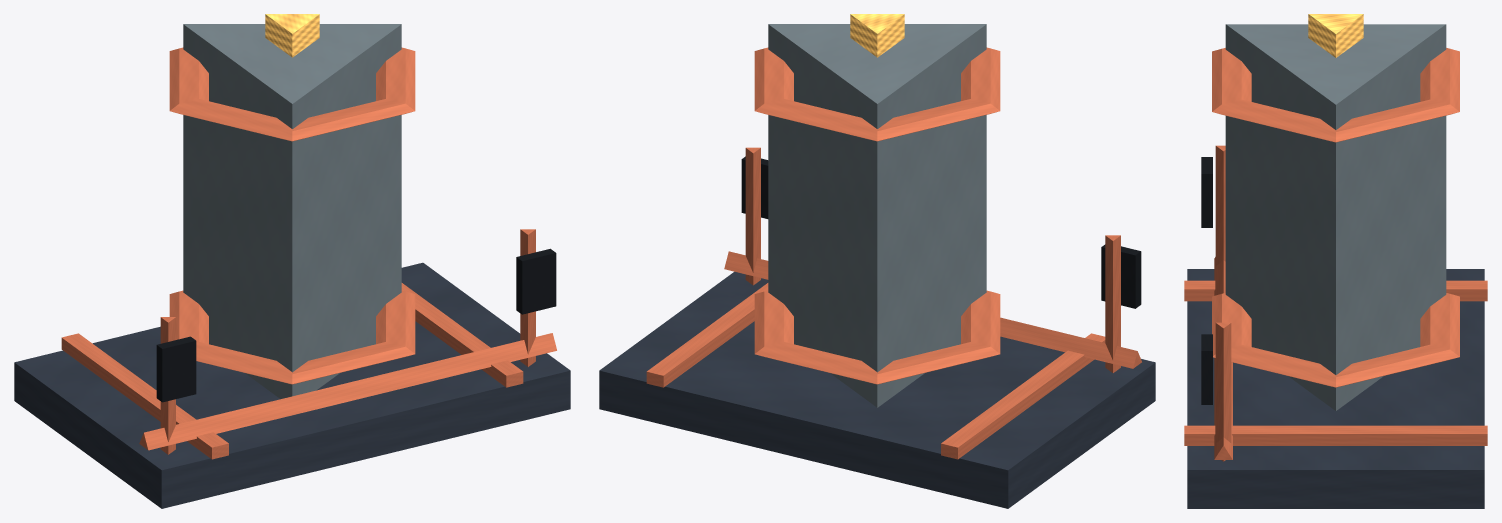
The model's file is atlas100-s022-a02.lod2.glb.
3 renders of one model, left to right at view 1: azimuth 30°, elevation 25°; view 2: azimuth 150°, elevation 25°; view 3: azimuth 270°, elevation 25°, orthographic.
Parts seen in each view (by area): view 1: atlas100-s022-a02:part-003, atlas100-s022-a02:part-000, atlas100-s022-a02:part-005, atlas100-s022-a02:part-011, atlas100-s022-a02:part-004, atlas100-s022-a02:part-001, atlas100-s022-a02:part-002, atlas100-s022-a02:part-010, atlas100-s022-a02:part-008, atlas100-s022-a02:part-006, atlas100-s022-a02:part-009, atlas100-s022-a02:part-007; view 2: atlas100-s022-a02:part-003, atlas100-s022-a02:part-000, atlas100-s022-a02:part-004, atlas100-s022-a02:part-005, atlas100-s022-a02:part-001, atlas100-s022-a02:part-011, atlas100-s022-a02:part-002, atlas100-s022-a02:part-009, atlas100-s022-a02:part-007, atlas100-s022-a02:part-006, atlas100-s022-a02:part-008, atlas100-s022-a02:part-010; view 3: atlas100-s022-a02:part-003, atlas100-s022-a02:part-000, atlas100-s022-a02:part-005, atlas100-s022-a02:part-004, atlas100-s022-a02:part-002, atlas100-s022-a02:part-009, atlas100-s022-a02:part-006, atlas100-s022-a02:part-001, atlas100-s022-a02:part-007, atlas100-s022-a02:part-011, atlas100-s022-a02:part-008, atlas100-s022-a02:part-010.
Part boxes in pixels (left/top/right/bottom): atlas100-s022-a02:part-003: left=183, top=24, right=401, bottom=398; atlas100-s022-a02:part-000: left=14, top=262, right=570, bottom=508; atlas100-s022-a02:part-005: left=169, top=47, right=415, bottom=141; atlas100-s022-a02:part-011: left=139, top=333, right=556, bottom=450; atlas100-s022-a02:part-004: left=169, top=290, right=415, bottom=384; atlas100-s022-a02:part-001: left=61, top=333, right=228, bottom=459; atlas100-s022-a02:part-002: left=401, top=283, right=523, bottom=387; atlas100-s022-a02:part-010: left=516, top=248, right=556, bottom=314; atlas100-s022-a02:part-008: left=156, top=336, right=196, bottom=402; atlas100-s022-a02:part-006: left=265, top=14, right=319, bottom=57; atlas100-s022-a02:part-009: left=520, top=229, right=535, bottom=366; atlas100-s022-a02:part-007: left=160, top=317, right=175, bottom=454; atlas100-s022-a02:part-003: left=768, top=24, right=986, bottom=407; atlas100-s022-a02:part-000: left=599, top=271, right=1155, bottom=508; atlas100-s022-a02:part-004: left=754, top=290, right=1000, bottom=384; atlas100-s022-a02:part-005: left=754, top=47, right=1000, bottom=141; atlas100-s022-a02:part-001: left=941, top=333, right=1105, bottom=459; atlas100-s022-a02:part-011: left=724, top=251, right=1141, bottom=368; atlas100-s022-a02:part-002: left=646, top=283, right=768, bottom=387; atlas100-s022-a02:part-009: left=745, top=147, right=760, bottom=285; atlas100-s022-a02:part-007: left=1105, top=235, right=1120, bottom=372; atlas100-s022-a02:part-006: left=850, top=14, right=904, bottom=57; atlas100-s022-a02:part-008: left=1101, top=244, right=1141, bottom=308; atlas100-s022-a02:part-010: left=741, top=156, right=768, bottom=218; atlas100-s022-a02:part-003: left=1225, top=24, right=1446, bottom=410; atlas100-s022-a02:part-000: left=1187, top=269, right=1484, bottom=508; atlas100-s022-a02:part-005: left=1212, top=48, right=1459, bottom=142; atlas100-s022-a02:part-004: left=1212, top=293, right=1459, bottom=387; atlas100-s022-a02:part-002: left=1184, top=425, right=1487, bottom=445; atlas100-s022-a02:part-009: left=1215, top=322, right=1231, bottom=461; atlas100-s022-a02:part-006: left=1308, top=14, right=1363, bottom=57; atlas100-s022-a02:part-001: left=1184, top=280, right=1487, bottom=301; atlas100-s022-a02:part-007: left=1215, top=145, right=1225, bottom=266; atlas100-s022-a02:part-011: left=1214, top=257, right=1232, bottom=459; atlas100-s022-a02:part-008: left=1201, top=157, right=1212, bottom=227; atlas100-s022-a02:part-010: left=1201, top=334, right=1212, bottom=404.
Bounding box in the file's own units: 2.88 × 2.59 × 1.84.
5 materials, 5 textured.
